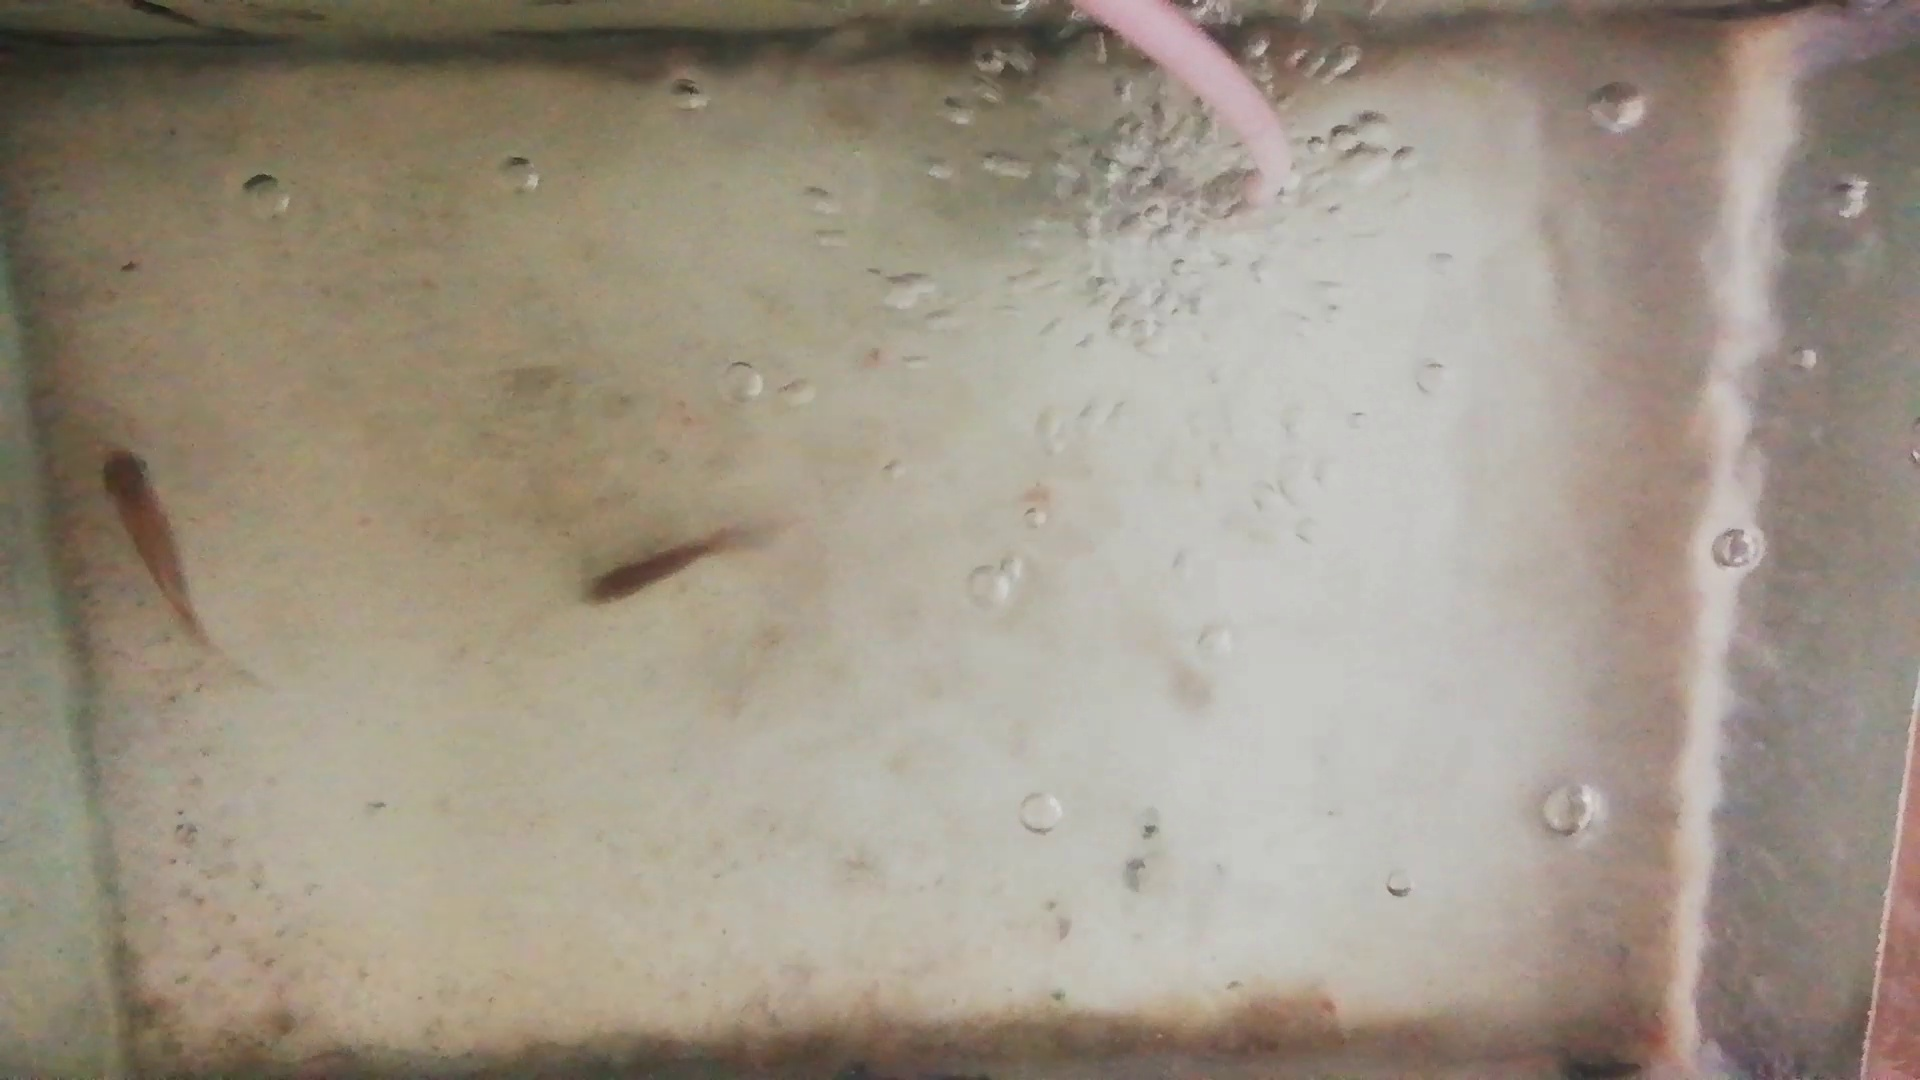fish: (98, 444, 207, 642), (585, 533, 725, 603)
